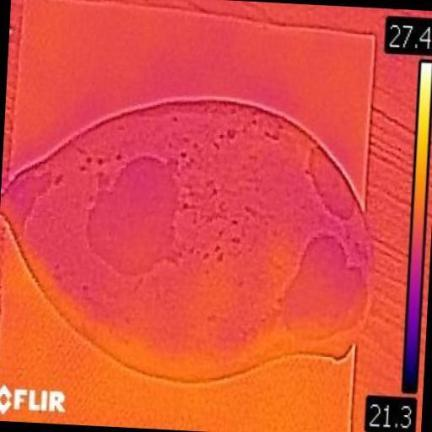mango: (0, 98, 370, 380)
